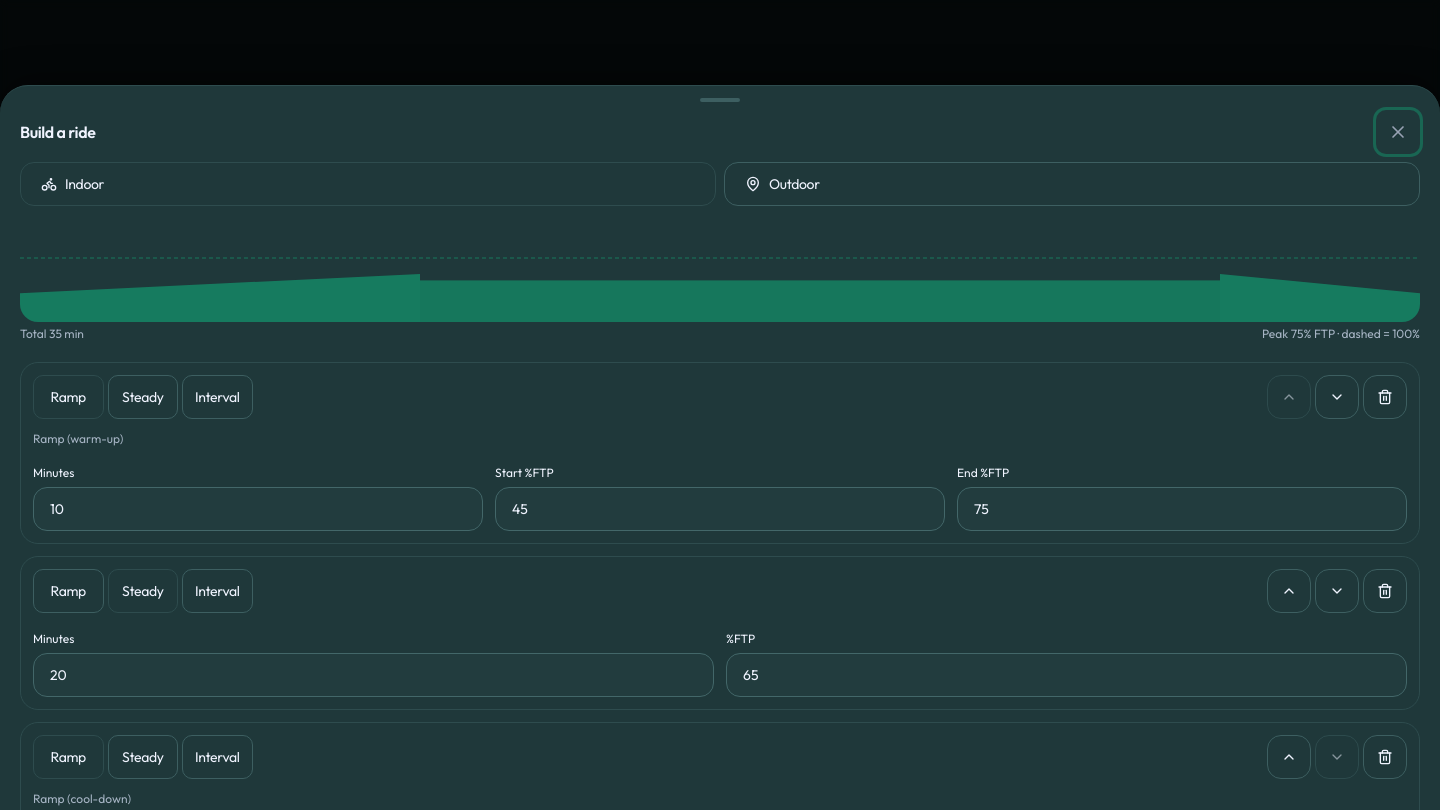
Test: StructuredWorkoutSheet (Batch 88 free-form editor) › warns about a missing warm-up ramp when the first segment is not a ramp
This screenshot has width=1440, height=810.
Note: Flip the first segment's kind to steady → it no longer opens with a ramp.
Step 1. Click the 1st button "steady" → (143, 397), box [108, 375, 178, 419]
(page scrolled)
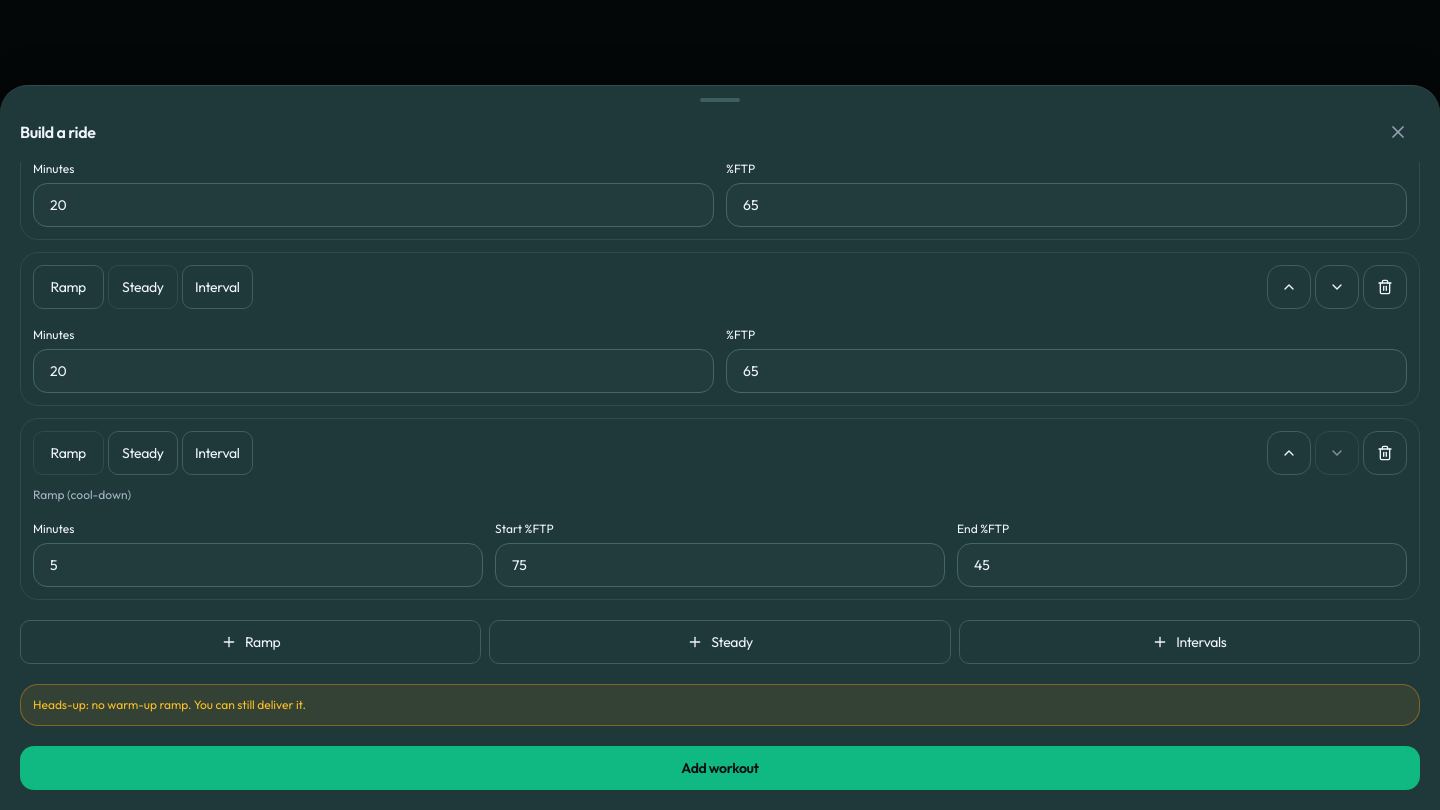
Expected: the text "Heads-up: no warm-up ramp. You can still deliver it." is shown, [33, 697, 306, 712]
Expected: the button "Add workout" is enabled, [20, 746, 1420, 790]
